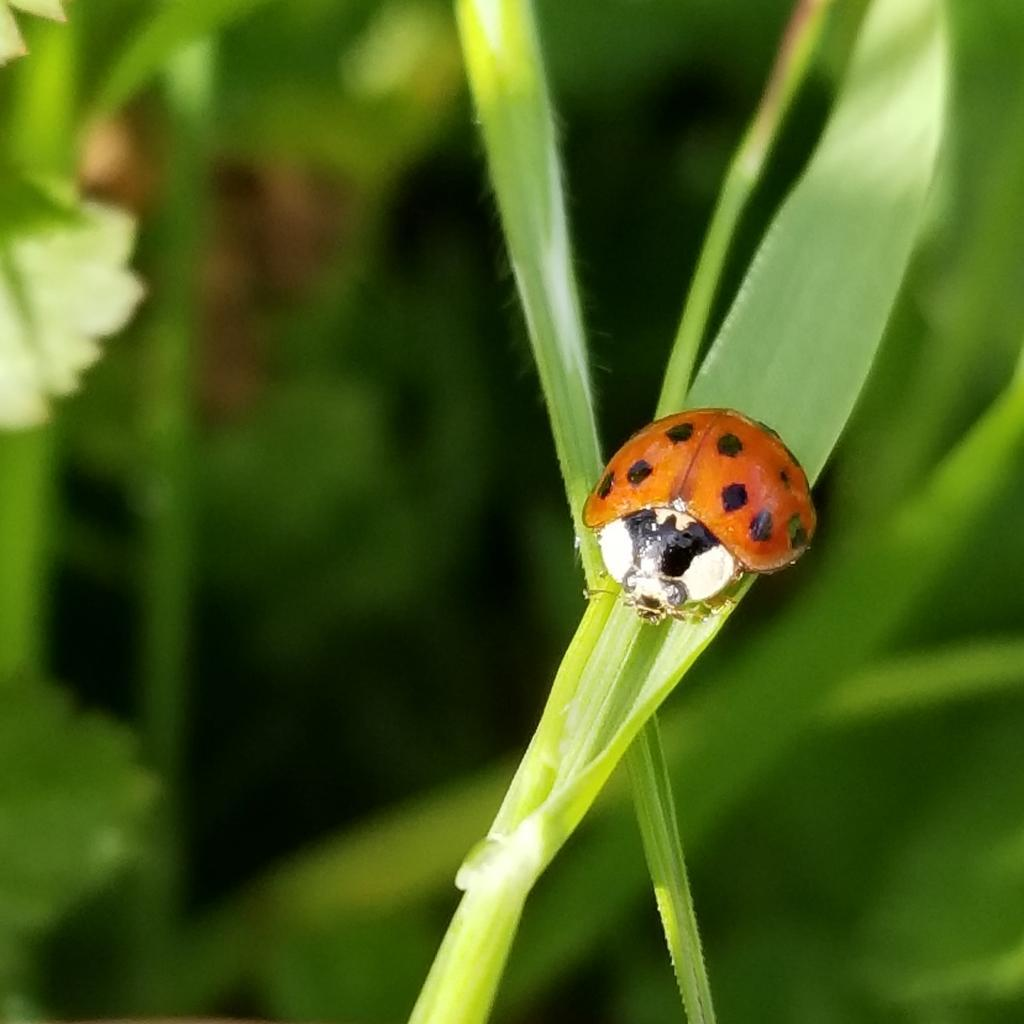ladybug: (579, 396, 831, 631)
